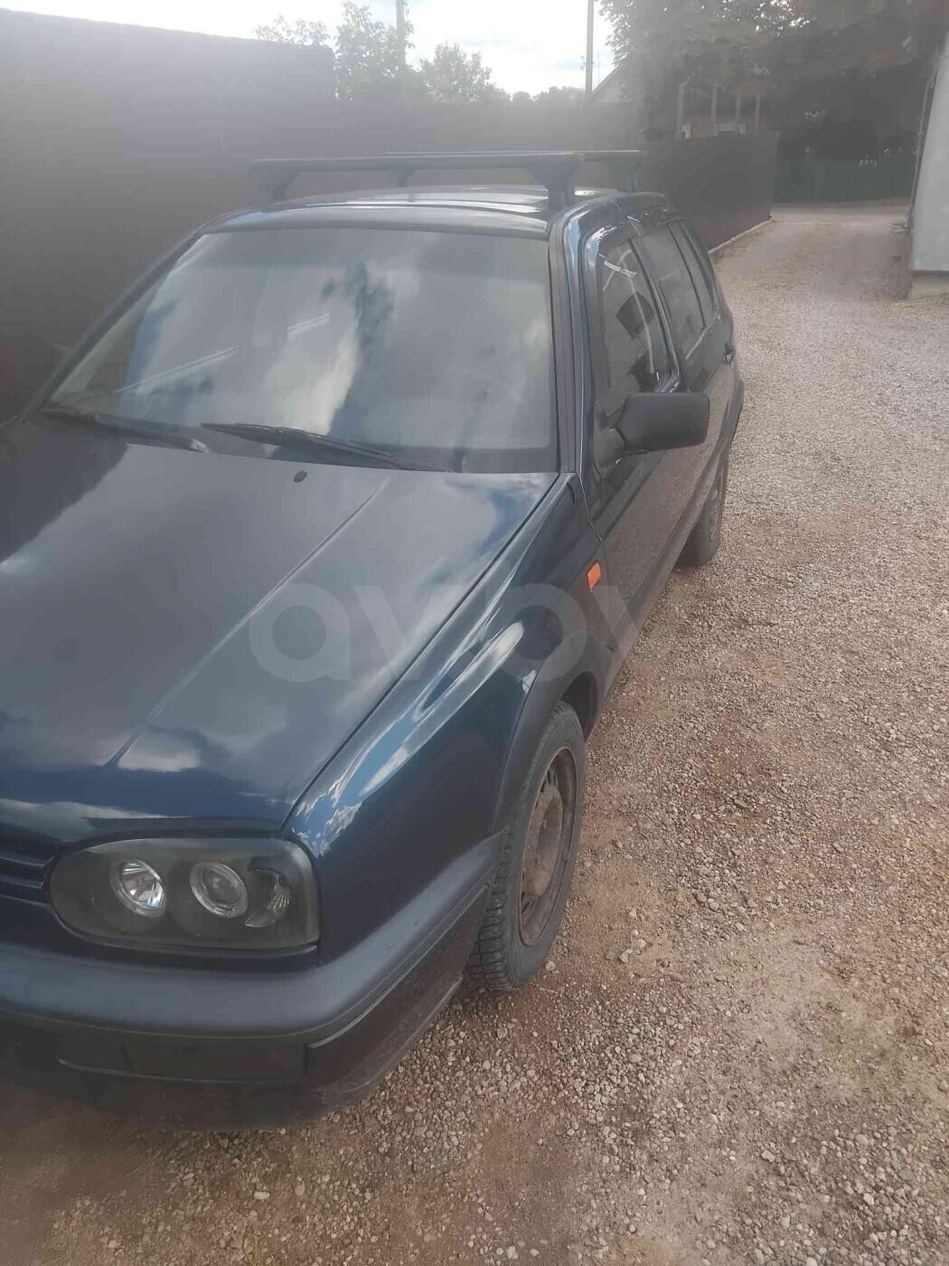Golf_1991-2000: (0, 163, 747, 1069)
